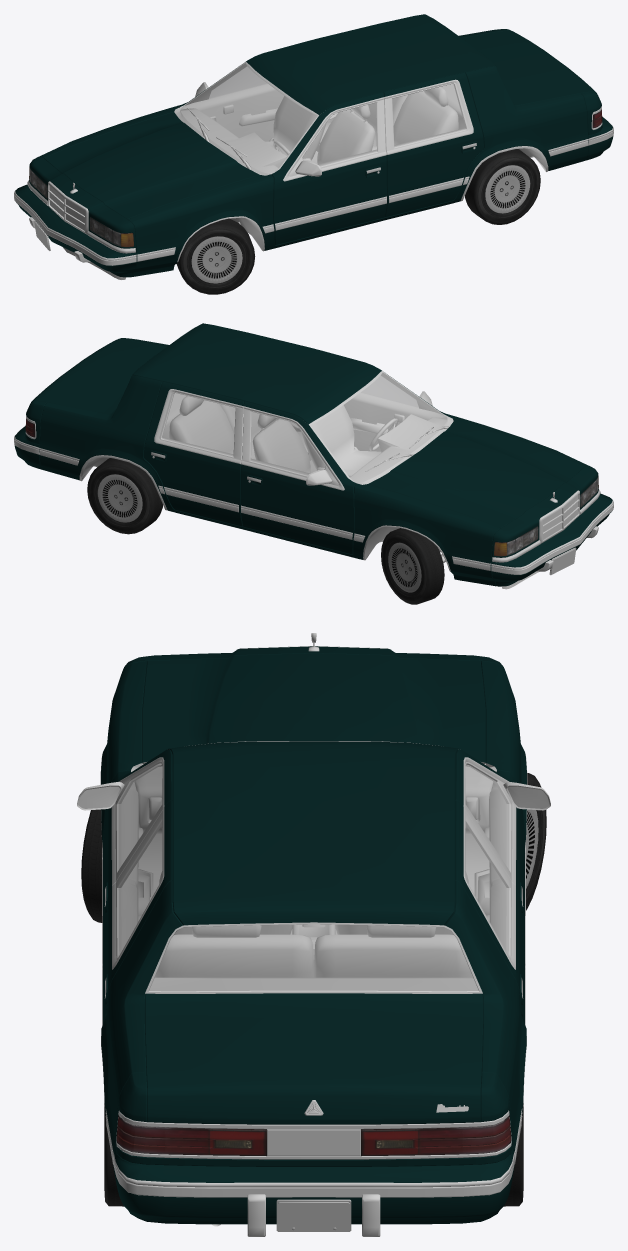
Rendered from Riverside88.fbx.
The picture shows the model from 3 angles, top to bottom: view 1: azimuth 30°, elevation 25°; view 2: azimuth 150°, elevation 25°; view 3: azimuth 270°, elevation 25°; orthographic projection. The views are drawn at different scales.
Parts seen in each view (by area): view 1: Body, Hood, Windshield, Door_FL, Seats, Door_RL, Trunk_door, Wheel_FL, Wheel_RL, bottom, Doorcard_FR, Door_Glass_RL (+11 smaller); view 2: Body, Hood, Windshield, Seats, Door_FR, Door_RR, Trunk_door, Wheel_RR, bottom, Wheel_FR, Door_Glass_RR, Door_Glass_FR (+11 smaller); view 3: Body, Trunk_door, Hood, Rear_window, Seats, Bumper_rear, bottom, Bumper_rear_inner, Brakelights_glass, Interior, Door_Glass_RL, Door_Glass_RR (+20 smaller).
Boxes of the visible parts, left/top/right/bottom form: Body: left=29, top=14, right=602, bottom=276; Hood: left=44, top=112, right=259, bottom=219; Windshield: left=180, top=63, right=316, bottom=173; Door_FL: left=271, top=92, right=387, bottom=245; Seats: left=265, top=87, right=458, bottom=163; Door_RL: left=383, top=72, right=484, bottom=217; Trunk_door: left=462, top=30, right=595, bottom=105; Wheel_FL: left=176, top=218, right=255, bottom=294; Wheel_RL: left=465, top=149, right=540, bottom=224; bottom: left=27, top=62, right=602, bottom=262; Doorcard_FR: left=180, top=63, right=283, bottom=141; Door_Glass_RL: left=392, top=84, right=465, bottom=146; Body: left=25, top=323, right=598, bottom=586; Hood: left=368, top=421, right=583, bottom=528; Windshield: left=311, top=372, right=447, bottom=482; Seats: left=169, top=396, right=381, bottom=476; Door_FR: left=240, top=401, right=356, bottom=554; Door_RR: left=143, top=381, right=244, bottom=526; Trunk_door: left=32, top=339, right=165, bottom=414; Wheel_RR: left=87, top=458, right=162, bottom=534; bottom: left=25, top=371, right=600, bottom=571; Wheel_FR: left=381, top=528, right=444, bottom=604; Door_Glass_RR: left=162, top=393, right=235, bottom=456; Door_Glass_FR: left=250, top=412, right=325, bottom=475; Body: left=101, top=646, right=526, bottom=1168; Trunk_door: left=144, top=993, right=483, bottom=1124; Hood: left=142, top=653, right=485, bottom=762; Rear_window: left=149, top=924, right=478, bottom=991; Seats: left=155, top=871, right=472, bottom=977; Bumper_rear: left=113, top=1145, right=514, bottom=1224; bottom: left=100, top=633, right=527, bottom=1159; Bumper_rear_inner: left=112, top=1151, right=515, bottom=1236; Brakelights_glass: left=116, top=1115, right=511, bottom=1156; Interior: left=125, top=765, right=502, bottom=991; Door_Glass_RL: left=118, top=821, right=162, bottom=954; Door_Glass_RR: left=465, top=821, right=509, bottom=954.
Bounding box in the file's own units: 193 × 75.09 × 52.22.
